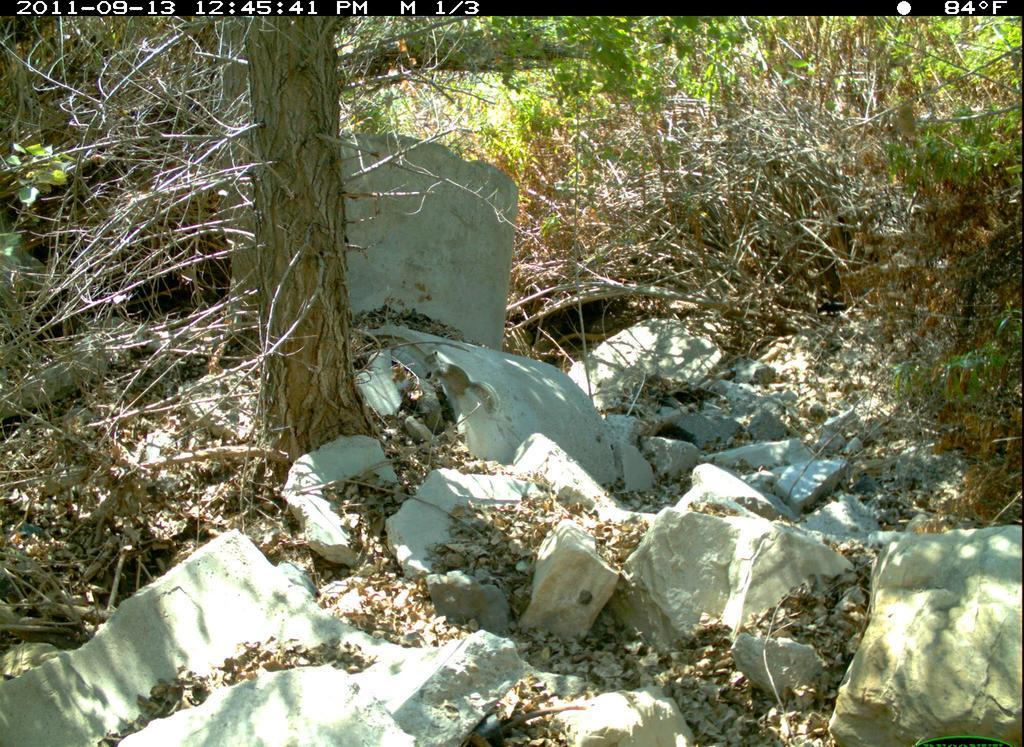squirrel: (422, 346, 505, 422)
